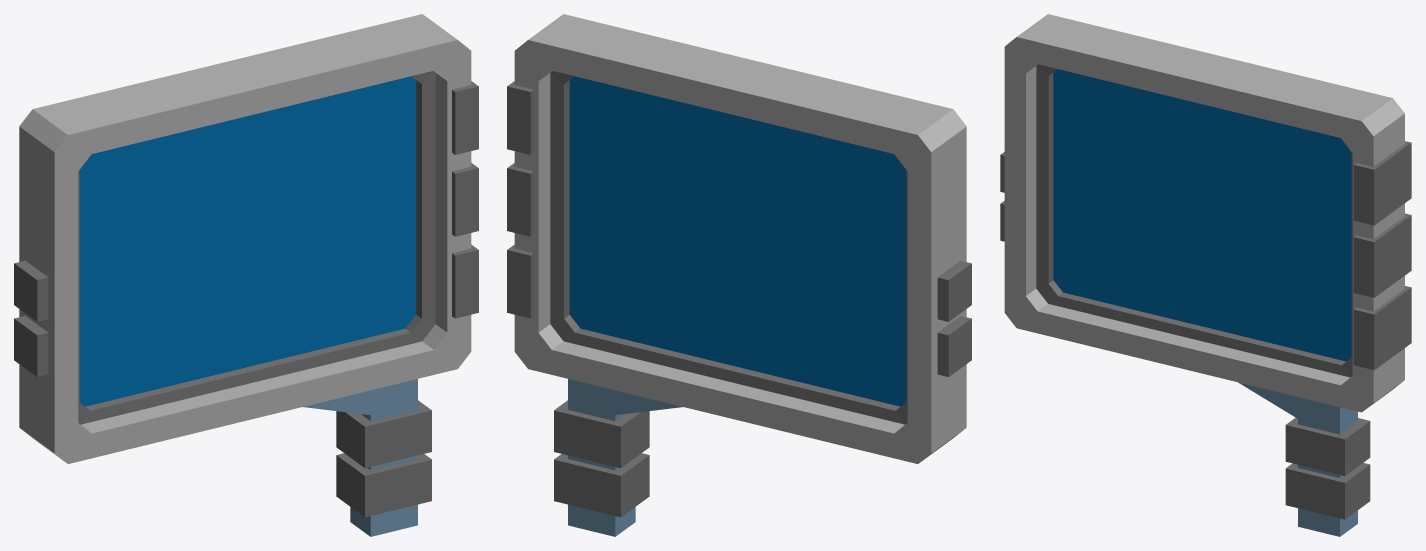
File: glass.fbx
The picture shows the model from 3 angles, left to right: view 1: azimuth 30°, elevation 25°; view 2: azimuth 150°, elevation 25°; view 3: azimuth 330°, elevation 25°; orthographic projection. The views are drawn at different scales.
Visible parts, largest first — view 1: Glass; view 2: Glass; view 3: Glass.
Part boxes in pixels (x1,y1,x2,y2): Glass: [14, 14, 478, 536]; Glass: [507, 14, 971, 536]; Glass: [1000, 14, 1411, 536].
Size of the model in its own units: 275 by 294 by 46.29.
